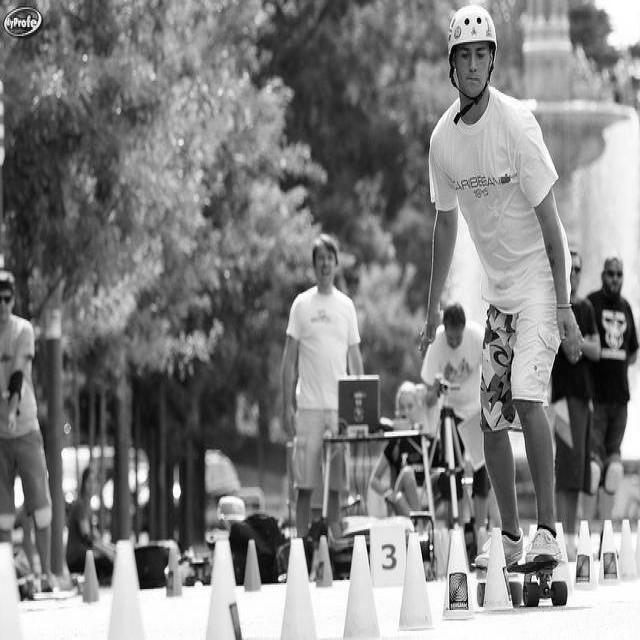vehicle: (132, 450, 240, 530), (90, 463, 148, 529)
